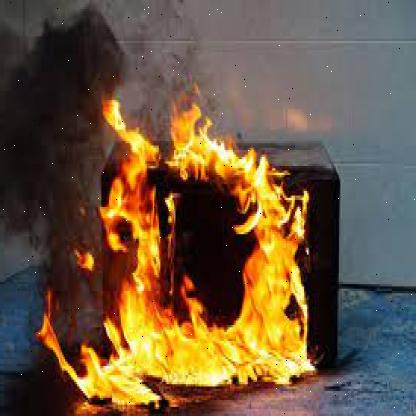fire: (25, 101, 329, 416)
smoke: (0, 0, 228, 329)
